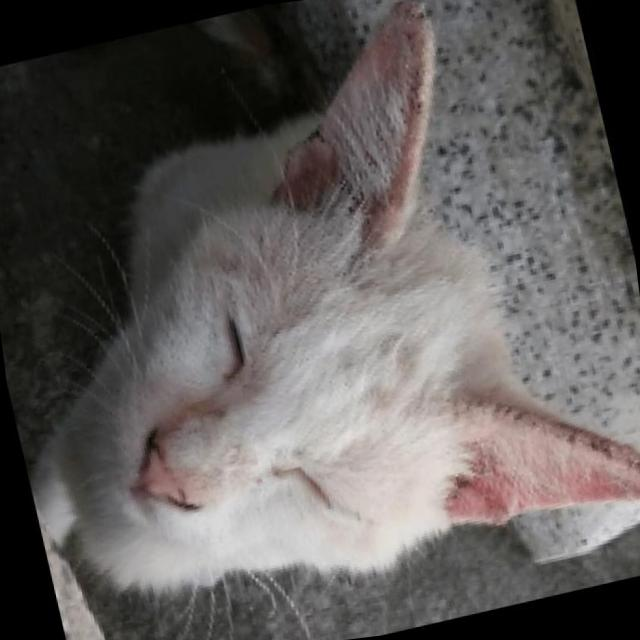Mange: (397, 68, 438, 133), (572, 424, 610, 469), (294, 110, 337, 148), (198, 390, 232, 424), (399, 0, 432, 33), (623, 437, 640, 482)
